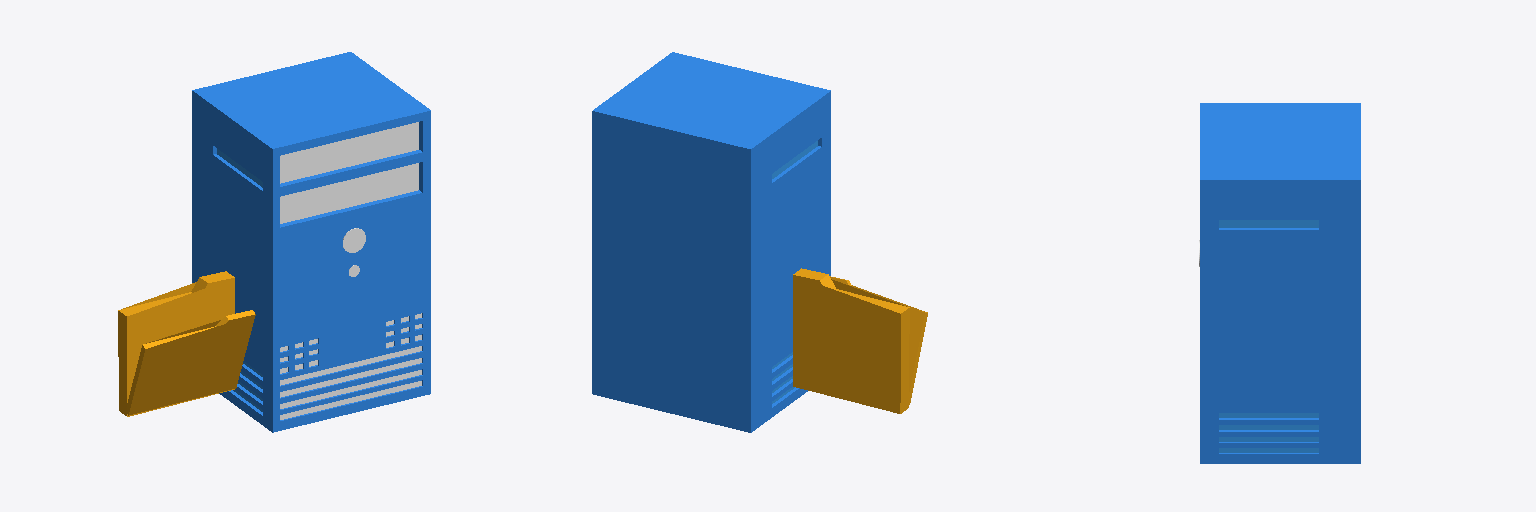
Rendered from d-fuwuqi2.obj.
3 views of the same model, side by side, from view 1: azimuth 30°, elevation 25°; view 2: azimuth 150°, elevation 25°; view 3: azimuth 270°, elevation 25° (orthographic).
Parts seen in each view (by area): view 1: d-fuwuqi2; view 2: d-fuwuqi2; view 3: d-fuwuqi2.
Boxes of the visible parts, <box> form: d-fuwuqi2: <box>118,52,430,432</box>; d-fuwuqi2: <box>592,52,927,432</box>; d-fuwuqi2: <box>1199,103,1360,463</box>.
Size of the model in its own units: 118 by 119 by 61.32.